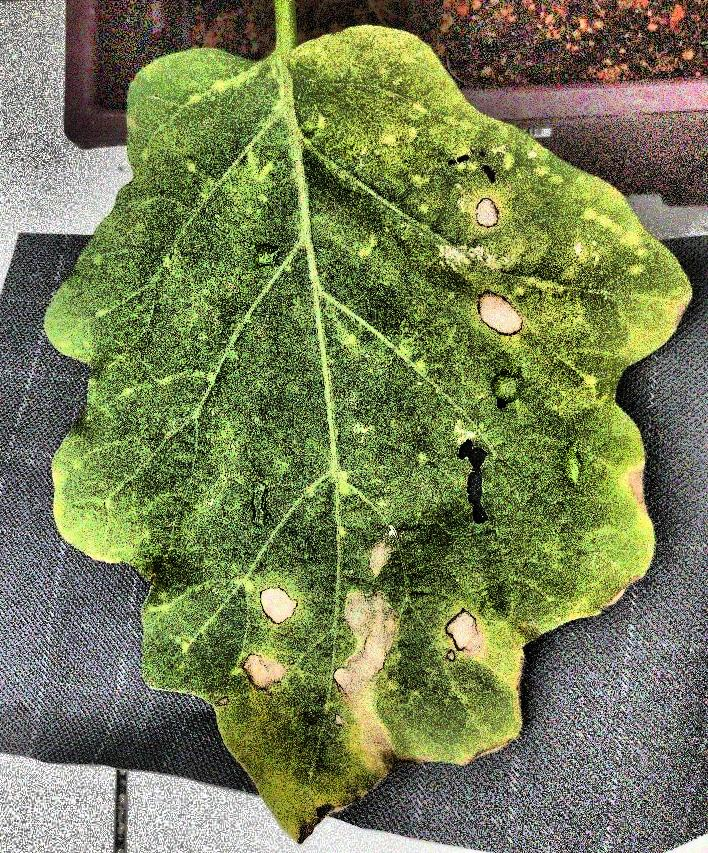Critical Stress: (0, 1, 708, 853)
